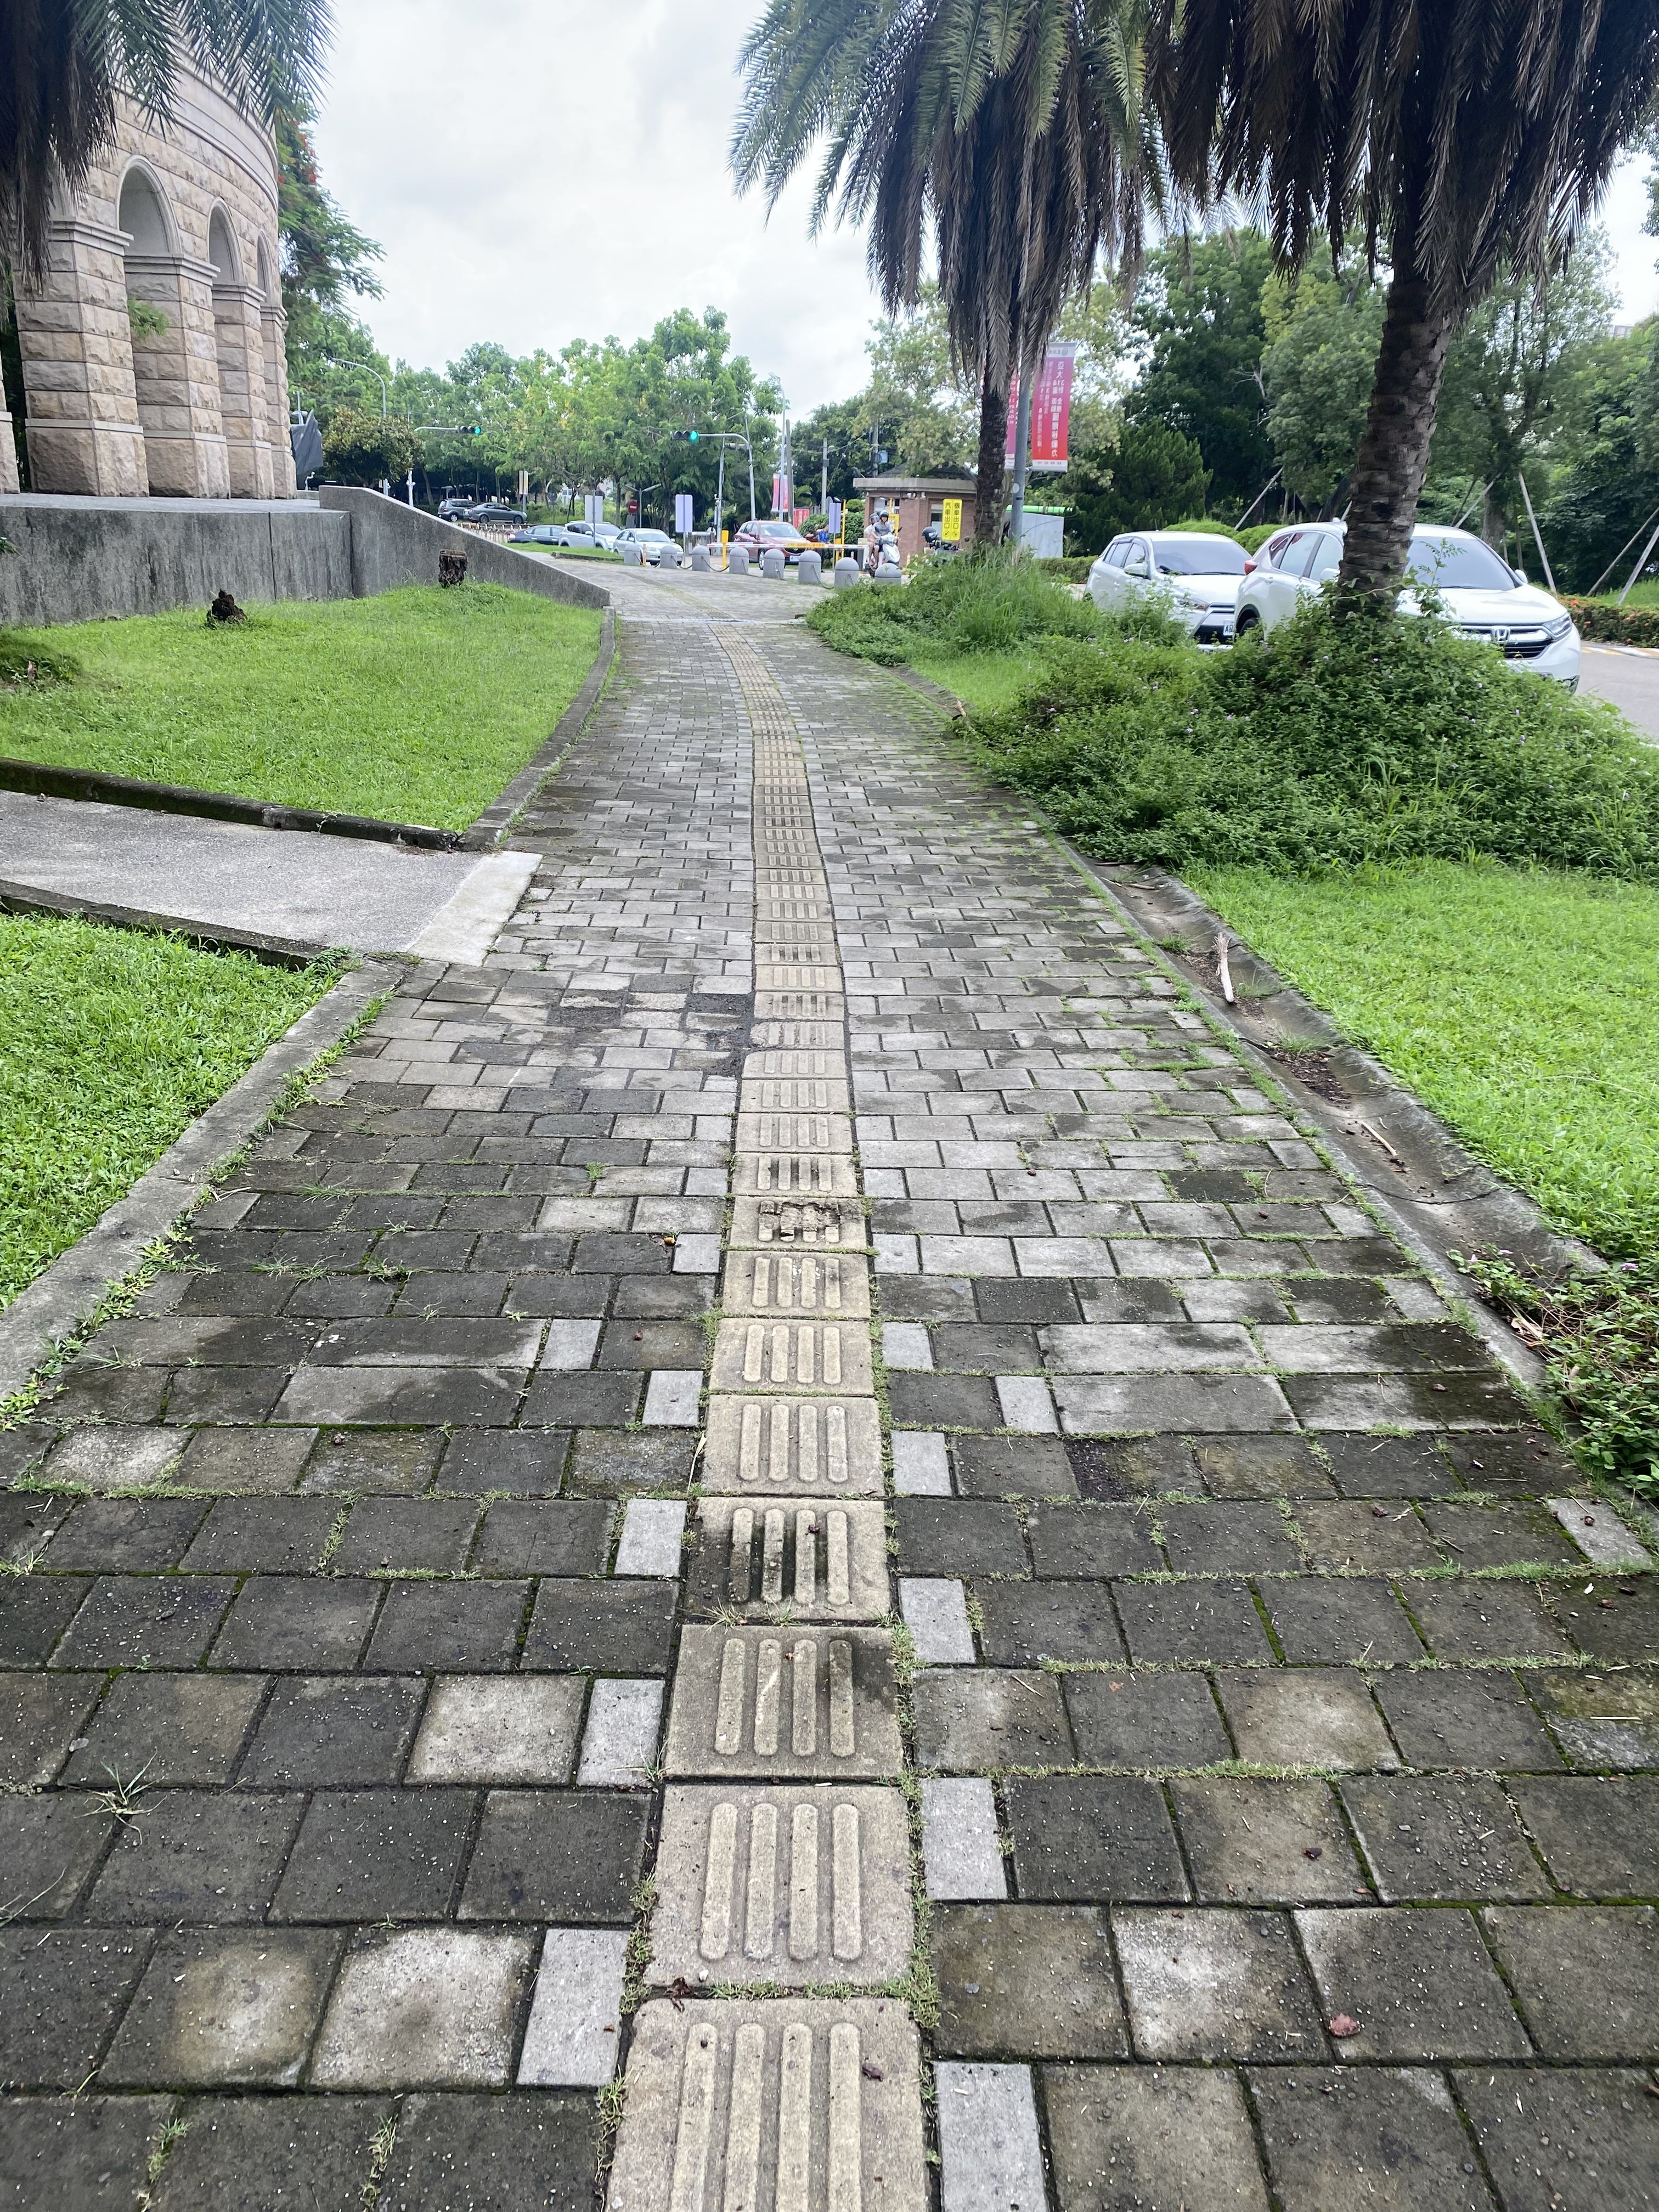0: (3, 829, 1659, 2212)
sidewalk: (521, 526, 1121, 1588)
